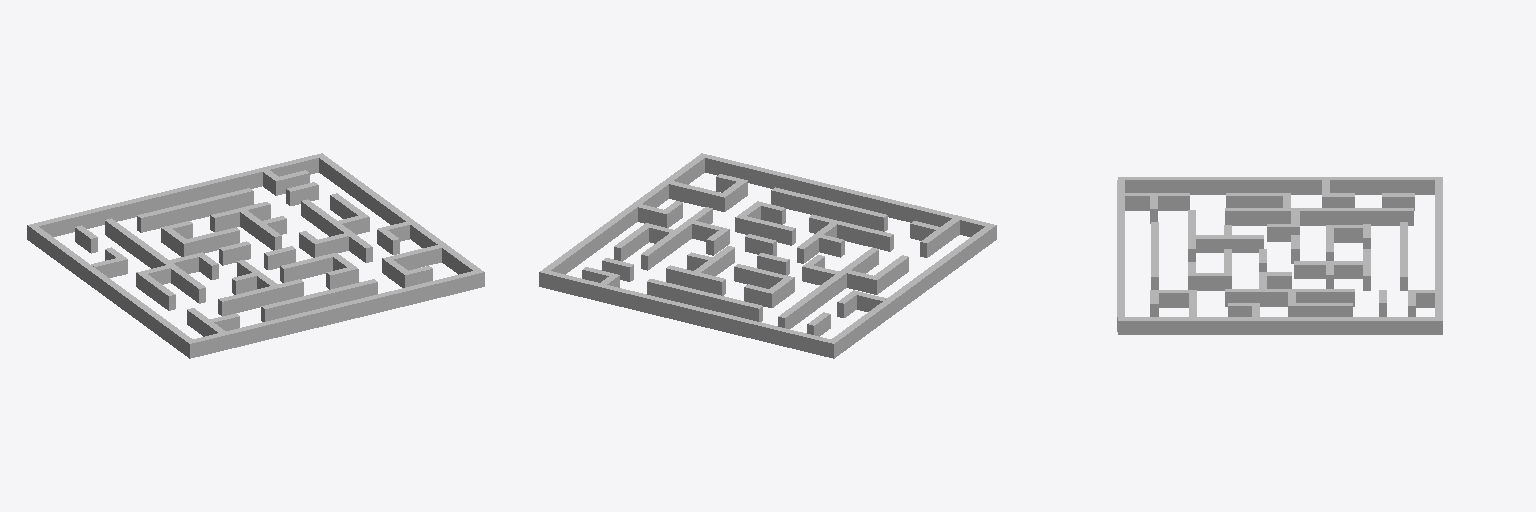
File: Map01uv.obj
3 renders of one model, left to right at view 1: azimuth 30°, elevation 25°; view 2: azimuth 150°, elevation 25°; view 3: azimuth 270°, elevation 25°, orthographic.
Visible parts, largest first — view 1: Cube.043_Cube.056, Cube.035_Cube.055, Cube.038_Cube.044, Cube.027_Cube.054, Cube.012, Cube.041_Cube.017, Cube.014, Cube.016, Cube.010_Cube.006, Cube.001, Cube.017_Cube.028, Cube.005_Cube.031 (+10 smaller); view 2: Cube.035_Cube.055, Cube.043_Cube.056, Cube.038_Cube.044, Cube.027_Cube.054, Cube.041_Cube.017, Cube.012, Cube.014, Cube.016, Cube.034_Cube.040, Cube.001, Cube.005_Cube.031, Cube.010_Cube.006 (+8 smaller); view 3: Cube.027_Cube.054, Cube.038_Cube.044, Cube.016, Cube.014, Cube.043_Cube.056, Cube.035_Cube.055, Cube.021_Cube.007, Cube.036_Cube.042, Cube.015_Cube.018, Cube.022_Cube.023, Cube.008_Cube.000, Cube.009_Cube.002 (+7 smaller).
Boxes of the visible parts, box(x1,y1,x2,y2) form: Cube.043_Cube.056: box(193, 271, 477, 356); Cube.035_Cube.055: box(34, 155, 318, 236); Cube.038_Cube.044: box(27, 224, 196, 358); Cube.027_Cube.054: box(316, 153, 484, 287); Cube.012: box(137, 188, 253, 232); Cube.041_Cube.017: box(261, 279, 377, 321); Cube.014: box(301, 199, 372, 262); Cube.016: box(135, 240, 205, 303); Cube.010_Cube.006: box(180, 227, 239, 256); Cube.001: box(280, 253, 338, 282); Cube.017_Cube.028: box(246, 279, 303, 309); Cube.005_Cube.031: box(210, 202, 270, 231); Cube.035_Cube.055: box(546, 271, 830, 356); Cube.043_Cube.056: box(705, 155, 989, 236); Cube.038_Cube.044: box(827, 224, 996, 358); Cube.027_Cube.054: box(539, 153, 707, 287); Cube.041_Cube.017: box(771, 187, 887, 231); Cube.012: box(647, 279, 762, 321); Cube.014: box(641, 207, 712, 270); Cube.016: box(808, 247, 878, 307); Cube.034_Cube.040: box(669, 181, 728, 211); Cube.001: box(735, 214, 795, 245); Cube.005_Cube.031: box(666, 265, 725, 295); Cube.010_Cube.006: box(734, 264, 794, 293); Cube.027_Cube.054: box(1118, 317, 1442, 334); Cube.038_Cube.044: box(1118, 177, 1442, 194); Cube.016: box(1225, 208, 1354, 225); Cube.014: box(1225, 289, 1354, 306); Cube.043_Cube.056: box(1117, 180, 1124, 331); Cube.035_Cube.055: box(1435, 180, 1442, 316); Cube.021_Cube.007: box(1125, 193, 1189, 210); Cube.036_Cube.042: box(1349, 208, 1413, 225); Cube.015_Cube.018: box(1288, 303, 1352, 316); Cube.022_Cube.023: box(1226, 193, 1290, 207); Cube.008_Cube.000: box(1294, 261, 1325, 278); Cube.009_Cube.002: box(1232, 235, 1263, 252).
Bounding box in the file's own units: 83.82 × 4 × 80.11.